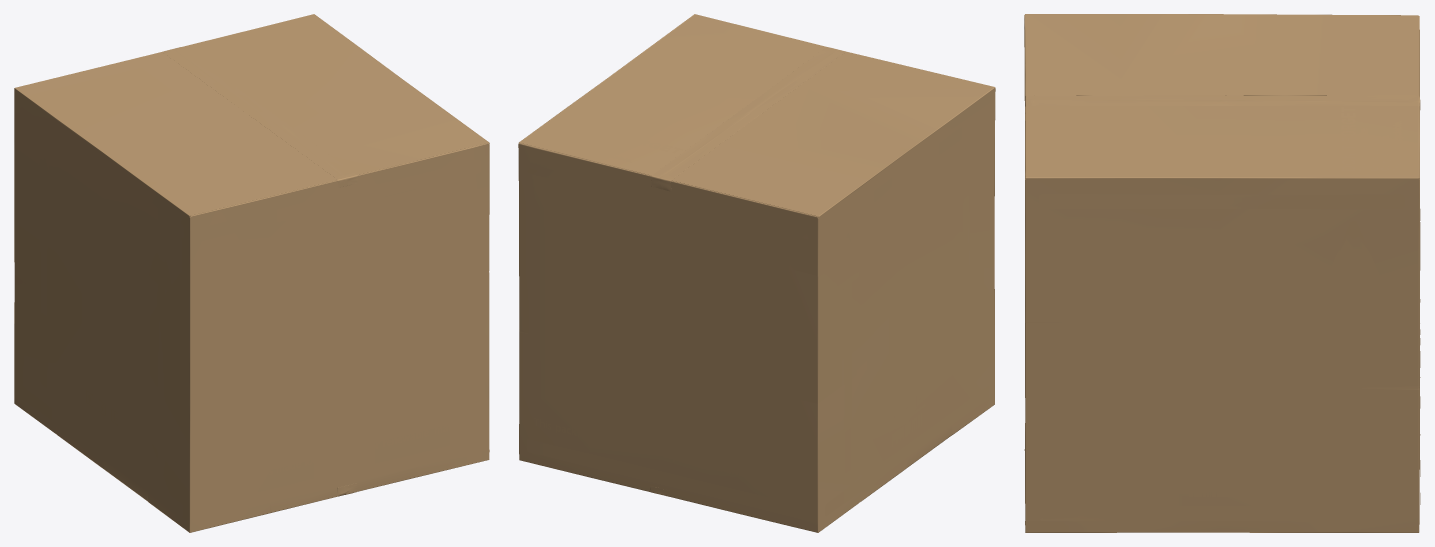
The model's file is box_corrugated_brown_b12.glb.
3 views of the same model, side by side, from view 1: azimuth 30°, elevation 25°; view 2: azimuth 150°, elevation 25°; view 3: azimuth 270°, elevation 25° (orthographic). The views are drawn at different scales.
Size of the model in its own units: 0.5121 by 0.5172 by 0.5221.
